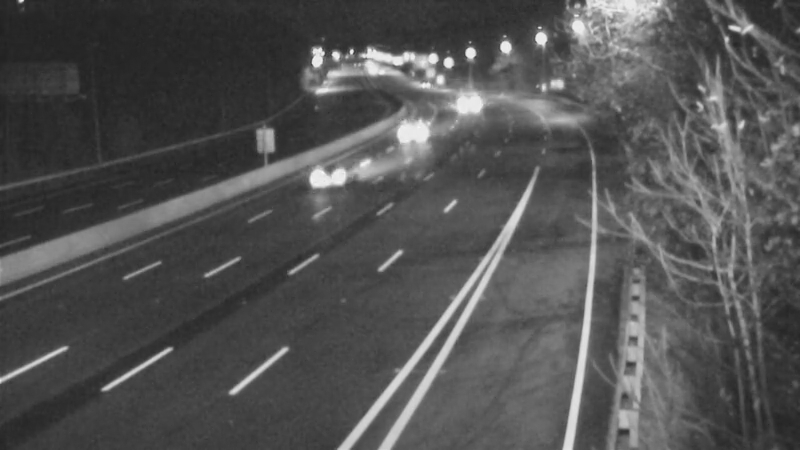vehicle: (292, 133, 372, 213), (403, 62, 453, 112), (440, 80, 490, 130), (388, 107, 438, 157)
